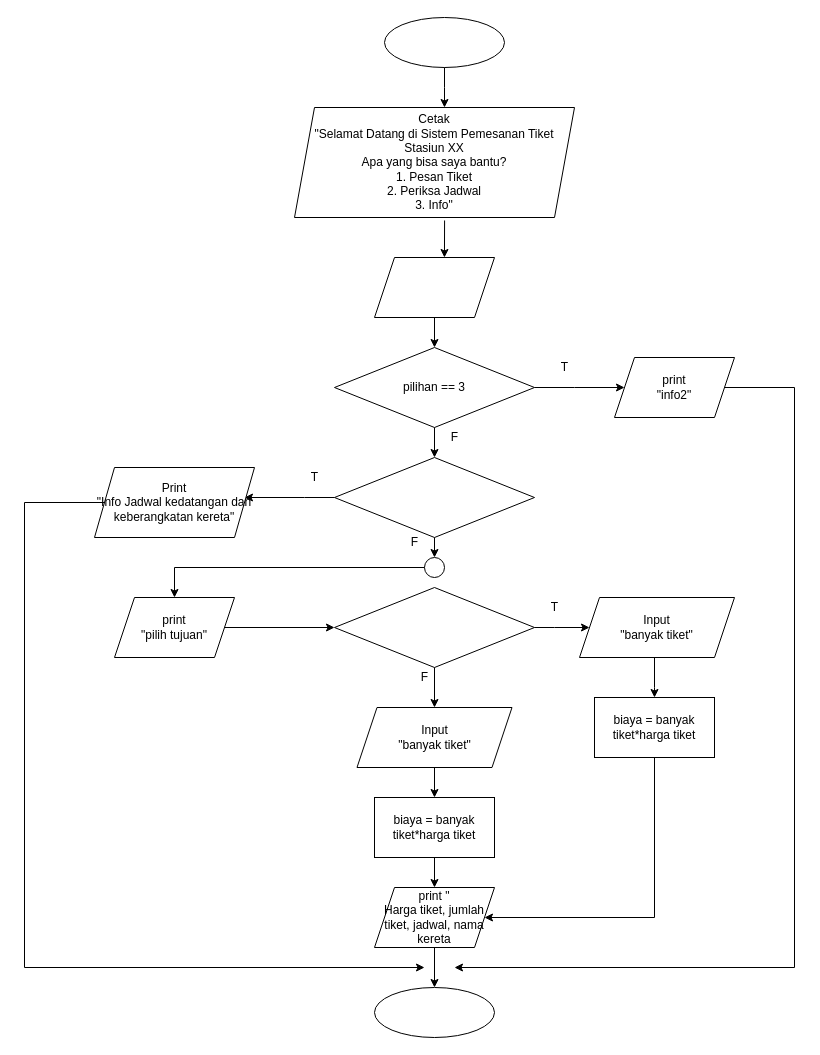
This 820x1055 diagram has some shape labels left out. Here are the shapes that lost their labels. From the top down, the centre of each, then its label:
At [444,42]: "Start".
At [434,287]: "Input pilihan 1, 2, atau 3".
At [434,497]: "pilihan == 2".
At [434,627]: "Tujuan == tujuan 1".
At [434,1012]: "Stop".
